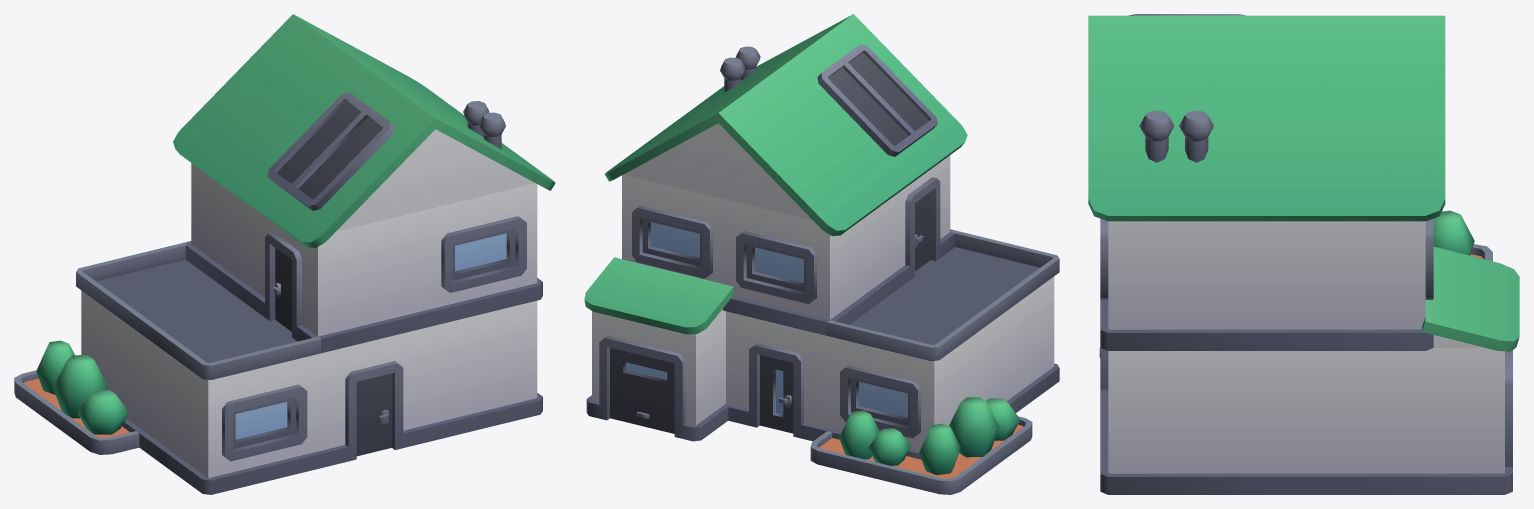
Rendered from suburban.building_type_u.glb.
3 renders of one model, left to right at view 1: azimuth 30°, elevation 25°; view 2: azimuth 150°, elevation 25°; view 3: azimuth 270°, elevation 25°, orthographic. The views are drawn at different scales.
Parts seen in each view (by area): view 1: building-type-u; view 2: building-type-u; view 3: building-type-u.
Boxes of the visible parts, box(x1,y1,x2,y2) form: building-type-u: box(14, 14, 555, 494); building-type-u: box(584, 14, 1059, 494); building-type-u: box(1088, 14, 1519, 494).
Size of the model in its own units: 7.85 by 6.26 by 5.98.
Materials: 1 (1 with a texture image).
